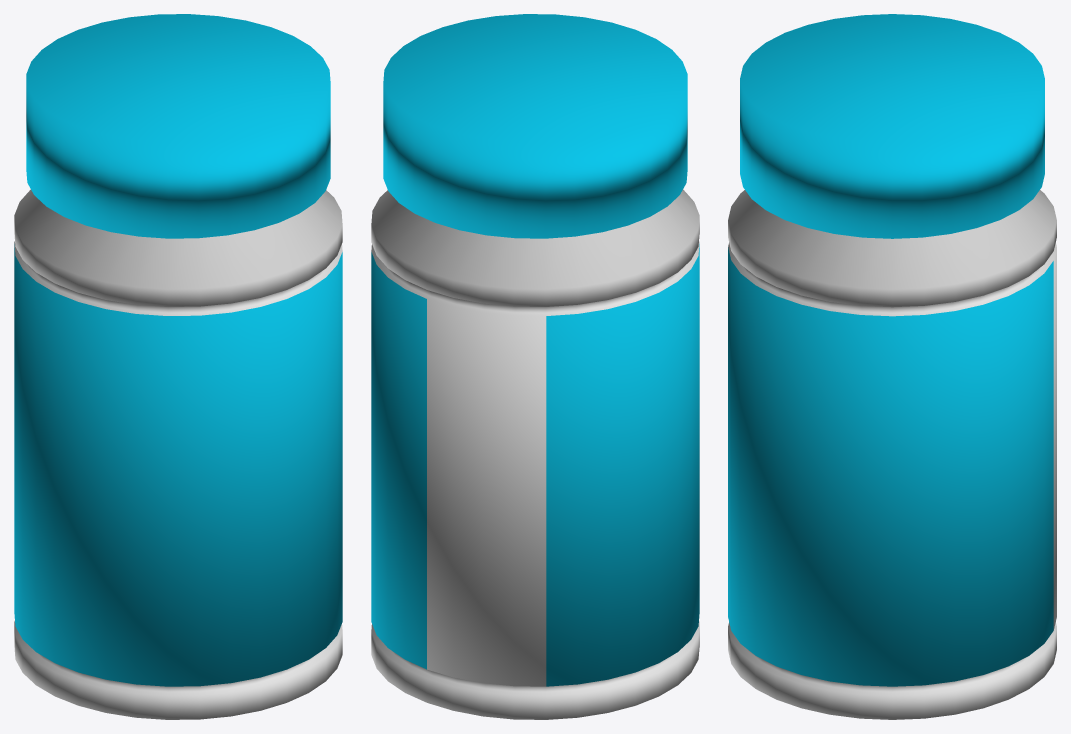
The model's file is medicine.fbx.
3 views of the same model, side by side, from view 1: azimuth 30°, elevation 25°; view 2: azimuth 150°, elevation 25°; view 3: azimuth 270°, elevation 25° (orthographic).
Visible parts, largest first — view 1: Cylinder, top; view 2: Cylinder, top; view 3: Cylinder, top.
Boxes of the visible parts, x1,y1,x2,y2 form: Cylinder: (14, 189, 342, 719); top: (26, 14, 330, 238); Cylinder: (371, 189, 699, 719); top: (383, 14, 687, 238); Cylinder: (728, 190, 1056, 719); top: (740, 14, 1044, 238).
Size of the model in its own units: 14.01 by 26.89 by 14.01.
